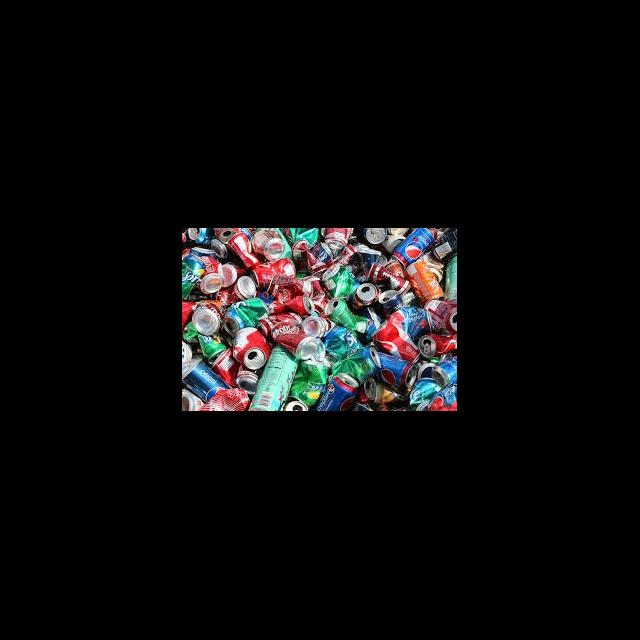metal: (248, 336, 306, 411), (182, 354, 234, 408), (318, 292, 376, 338), (326, 340, 386, 384), (368, 346, 421, 392), (312, 368, 368, 410), (220, 292, 272, 336), (246, 252, 302, 292), (228, 322, 274, 370), (270, 318, 318, 364), (316, 258, 362, 306), (182, 316, 230, 362), (400, 258, 444, 308), (386, 228, 436, 266), (362, 260, 412, 294), (288, 236, 330, 276), (222, 230, 260, 270), (419, 294, 456, 334), (414, 326, 456, 361), (182, 250, 210, 302), (194, 384, 248, 410), (349, 278, 382, 314), (372, 286, 408, 316), (431, 350, 456, 392), (224, 274, 258, 304), (317, 228, 353, 250)
